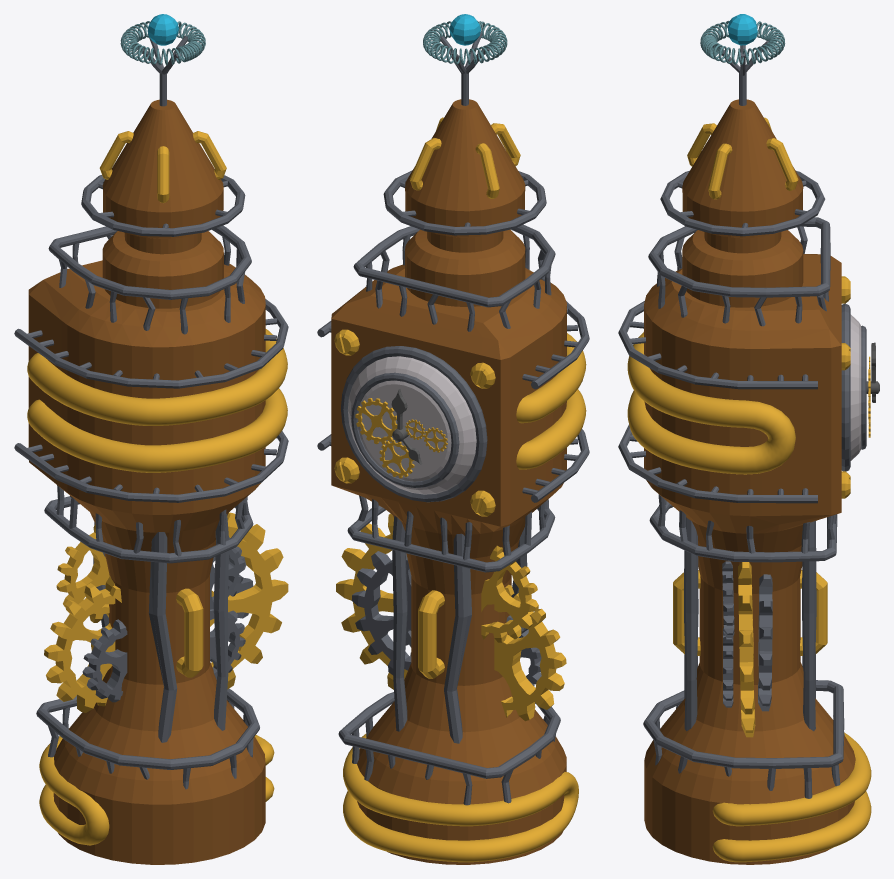
Rendered from Research tower-Animace3.fbx.
3 renders of one model, left to right at view 1: azimuth 30°, elevation 25°; view 2: azimuth 150°, elevation 25°; view 3: azimuth 270°, elevation 25°, orthographic.
Visible parts, largest first — view 1: Cylinder.001, Cylinder.002, BezierCurve.001, Cylinder.005, Cylinder.008, Cylinder.017, BezierCurve.004, Plane.003, Plane.001, Plane.005, Plane.006, Plane.002 (+13 smaller); view 2: Cylinder.001, Cylinder.002, BezierCurve.004, Cylinder.003, Cylinder.005, BezierCurve.001, Cylinder.017, Torus.001, Plane.003, Plane.001, Cylinder.013, Cylinder.019 (+16 smaller); view 3: Cylinder.001, Cylinder.002, BezierCurve.001, BezierCurve.004, Cylinder.005, Plane.003, Plane.001, Cylinder.008, Torus.006, Plane.002, Plane.005, Plane.006 (+11 smaller).
Part boxes in pixels (box(x1,y1,x2,y2)): Cylinder.001: box(28, 260, 265, 864); Cylinder.002: box(102, 99, 223, 308); BezierCurve.001: box(27, 329, 287, 472); Cylinder.005: box(93, 514, 228, 742); Cylinder.008: box(109, 512, 288, 689); Cylinder.017: box(44, 576, 115, 712); BezierCurve.004: box(39, 735, 274, 845); Plane.003: box(36, 688, 259, 769); Plane.001: box(48, 225, 251, 299); Plane.005: box(14, 299, 288, 388); Plane.006: box(14, 431, 288, 502); Plane.002: box(44, 496, 253, 563); Cylinder.001: box(331, 264, 566, 864); Cylinder.002: box(405, 99, 525, 306); BezierCurve.004: box(343, 734, 578, 862); Cylinder.003: box(348, 356, 476, 494); Cylinder.005: box(392, 515, 527, 743); BezierCurve.001: box(516, 333, 586, 469); Cylinder.017: box(494, 589, 566, 721); Torus.001: box(341, 346, 487, 502); Plane.003: box(338, 692, 560, 778); Plane.001: box(353, 224, 555, 307); Cylinder.013: box(351, 551, 411, 675); Cylinder.019: box(481, 545, 538, 642); Cylinder.001: box(644, 254, 855, 864); Cylinder.002: box(682, 99, 803, 307); BezierCurve.001: box(627, 332, 795, 474); BezierCurve.004: box(712, 732, 871, 862); Cylinder.005: box(684, 517, 816, 731); Plane.003: box(643, 680, 844, 768); Plane.001: box(648, 217, 830, 297); Cylinder.008: box(738, 562, 755, 737); Torus.006: box(660, 170, 825, 236); Plane.002: box(649, 501, 837, 562); Plane.005: box(618, 301, 817, 389); Plane.006: box(618, 424, 817, 503).
Bounding box in the file's own units: 991 × 3224 × 950.
